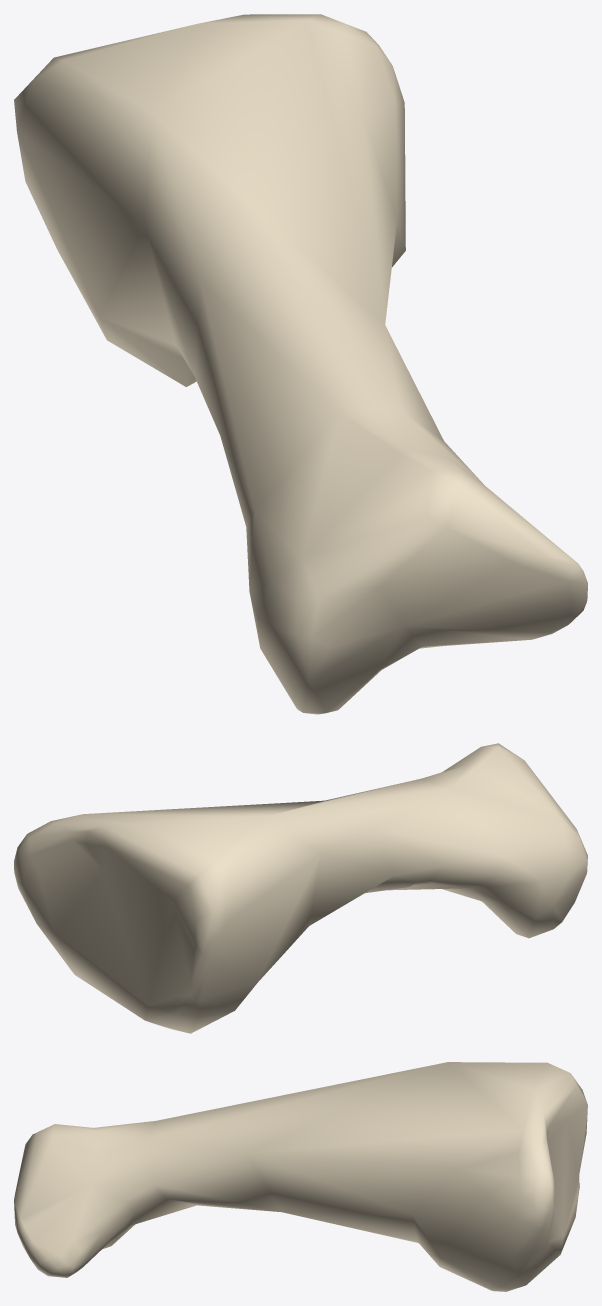
File: proximal-phalanx-of-second-finger-of-foot-r.glb
3 views of the same model, one above another, from view 1: azimuth 30°, elevation 25°; view 2: azimuth 150°, elevation 25°; view 3: azimuth 270°, elevation 25° (orthographic). The views are drawn at different scales.
Parts seen in each view (by area): view 1: Proximal phalanx of second finger of foot.r; view 2: Proximal phalanx of second finger of foot.r; view 3: Proximal phalanx of second finger of foot.r.
Boxes of the visible parts, bbox=[...] form: Proximal phalanx of second finger of foot.r: bbox=[14, 14, 587, 714]; Proximal phalanx of second finger of foot.r: bbox=[14, 743, 587, 1033]; Proximal phalanx of second finger of foot.r: bbox=[14, 1062, 587, 1291].
Bounding box in the file's own units: 0.0179 × 0.013 × 0.0294.
